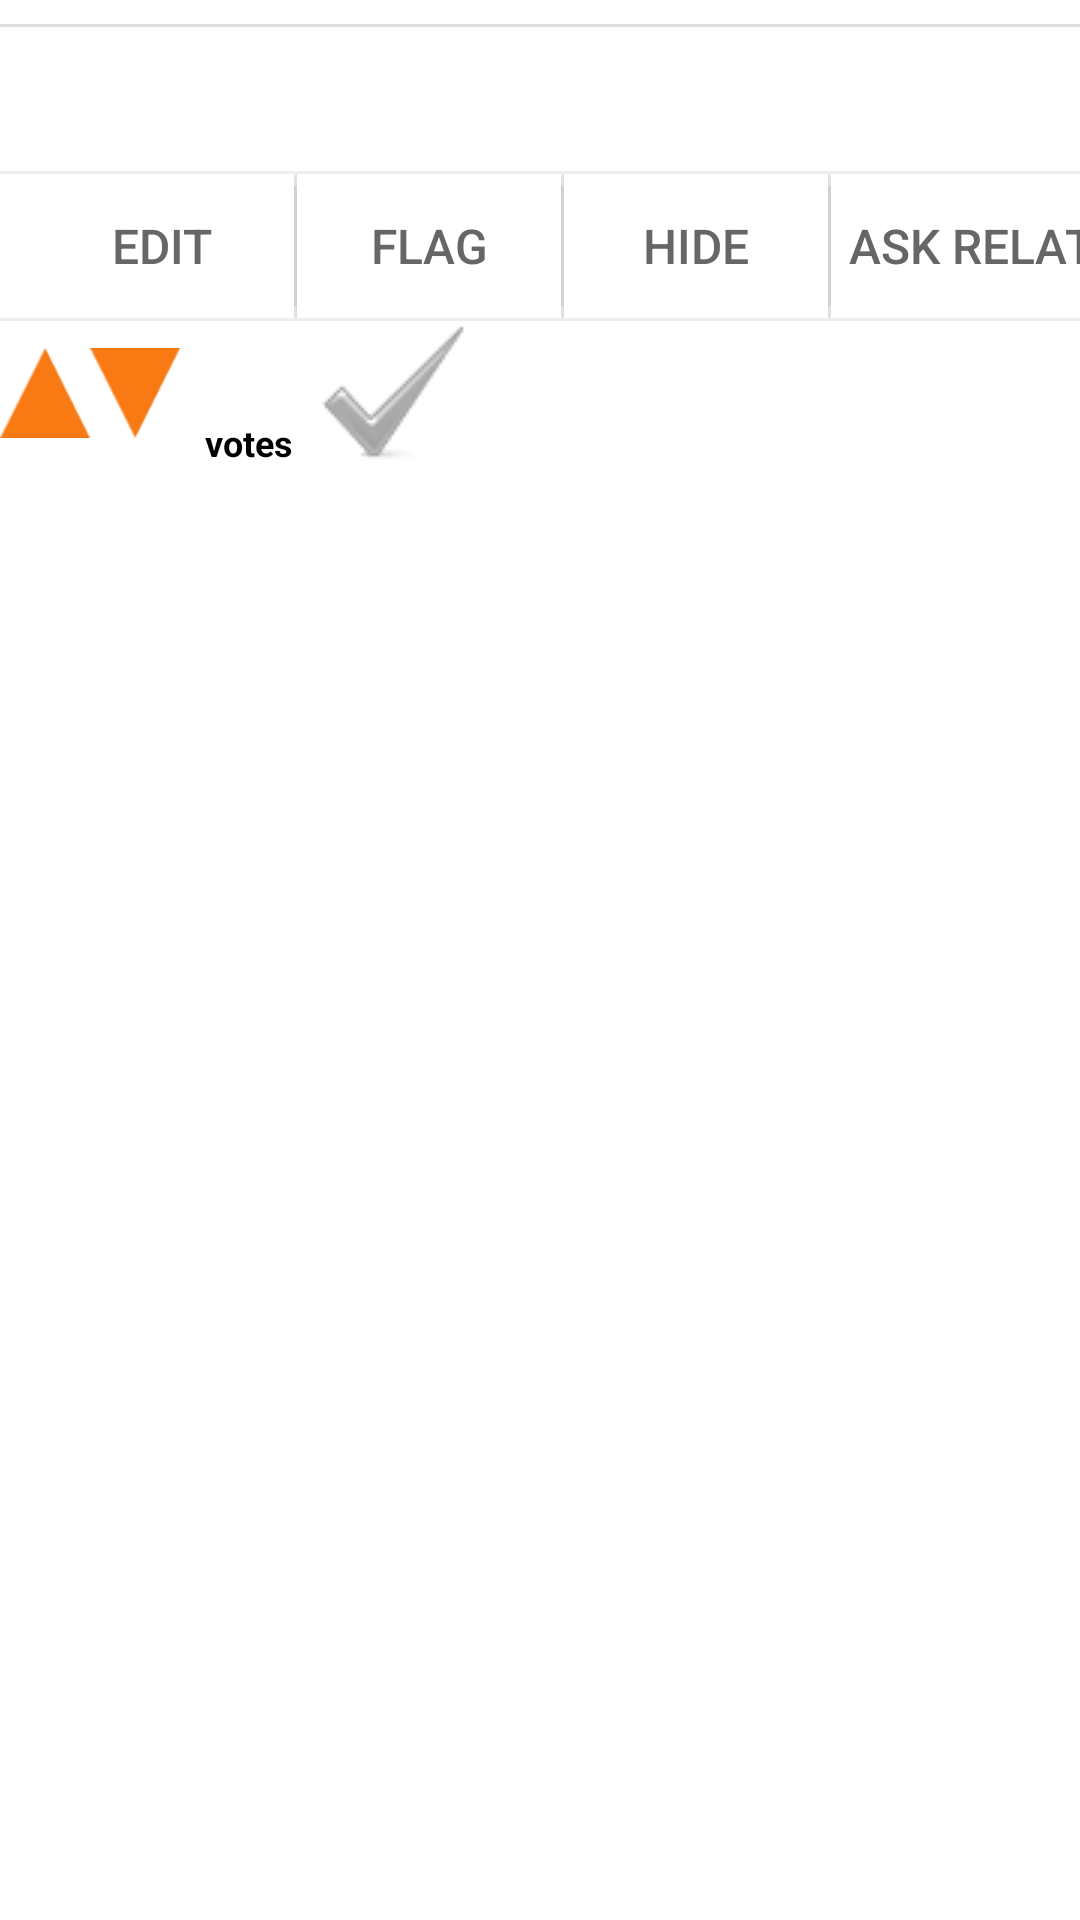

Where to tap for icons on this 1080×1920 app screen, as (x=x, y=y):
votedown: (x=135, y=393)
voteup: (x=45, y=393)
